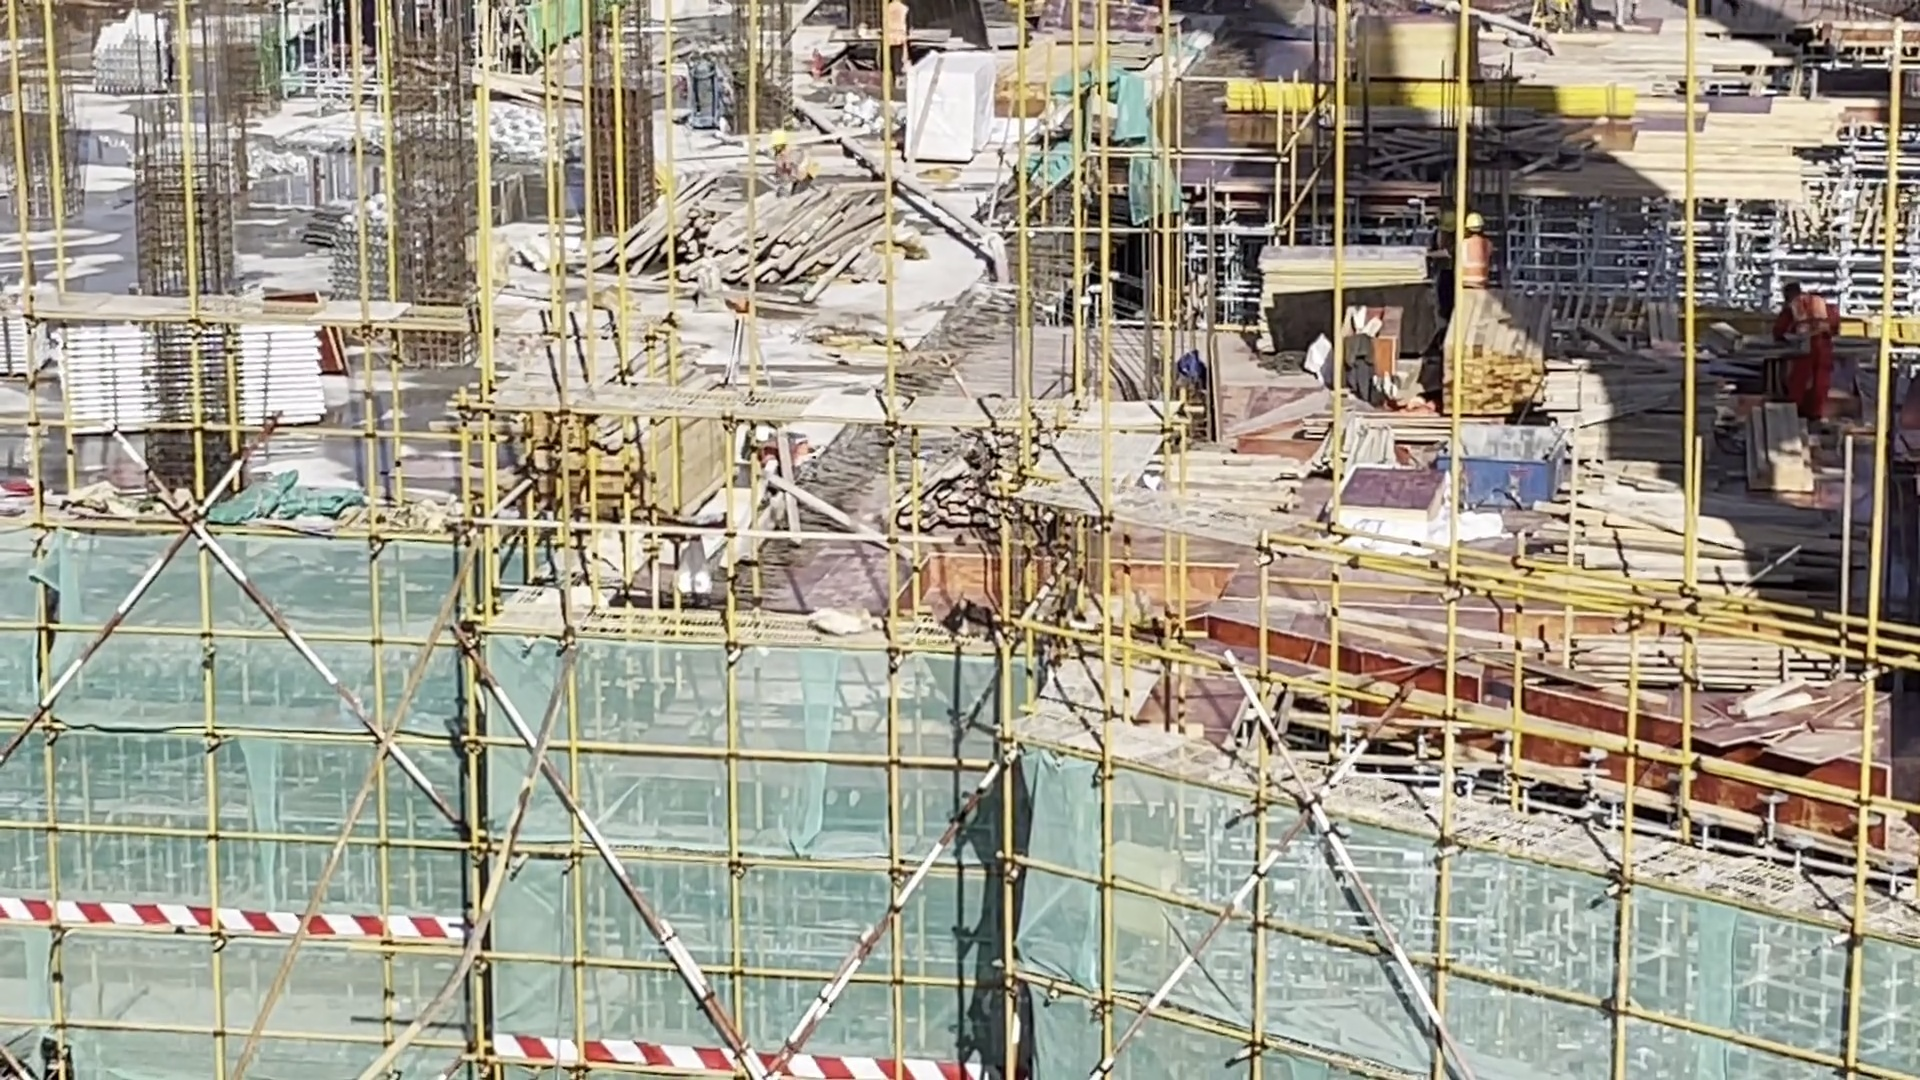board: (1678, 660, 1880, 771)
helmet: (747, 421, 774, 449), (761, 129, 790, 155), (1460, 209, 1488, 234)
hopper: (1440, 405, 1570, 516)
person: (1764, 272, 1840, 419), (741, 420, 806, 482), (1451, 211, 1499, 290)
scaffold: (51, 320, 366, 470)
vest: (1781, 307, 1830, 373), (1462, 234, 1492, 280)
wood: (695, 176, 893, 315), (1560, 624, 1803, 701), (1434, 290, 1548, 414)
